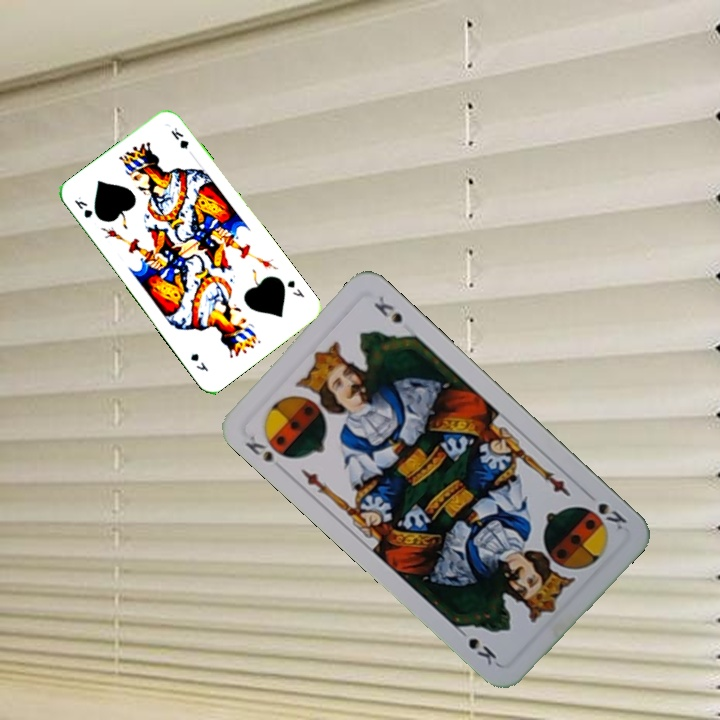GK: (70, 192, 95, 222), (283, 276, 307, 300)
SK: (581, 487, 630, 533), (241, 426, 276, 466)
